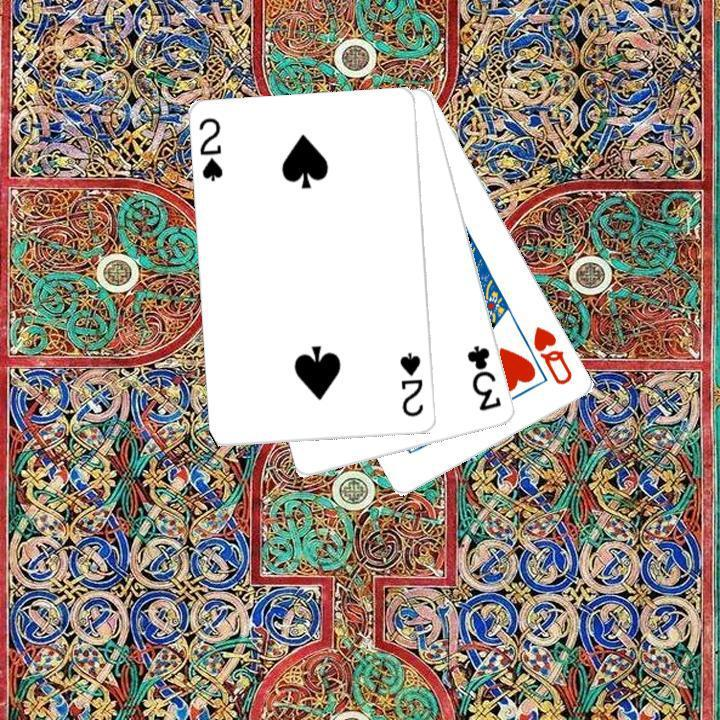2: (396, 348, 426, 419), (195, 113, 225, 184)
3: (463, 341, 504, 414)
Q: (529, 322, 575, 388)
